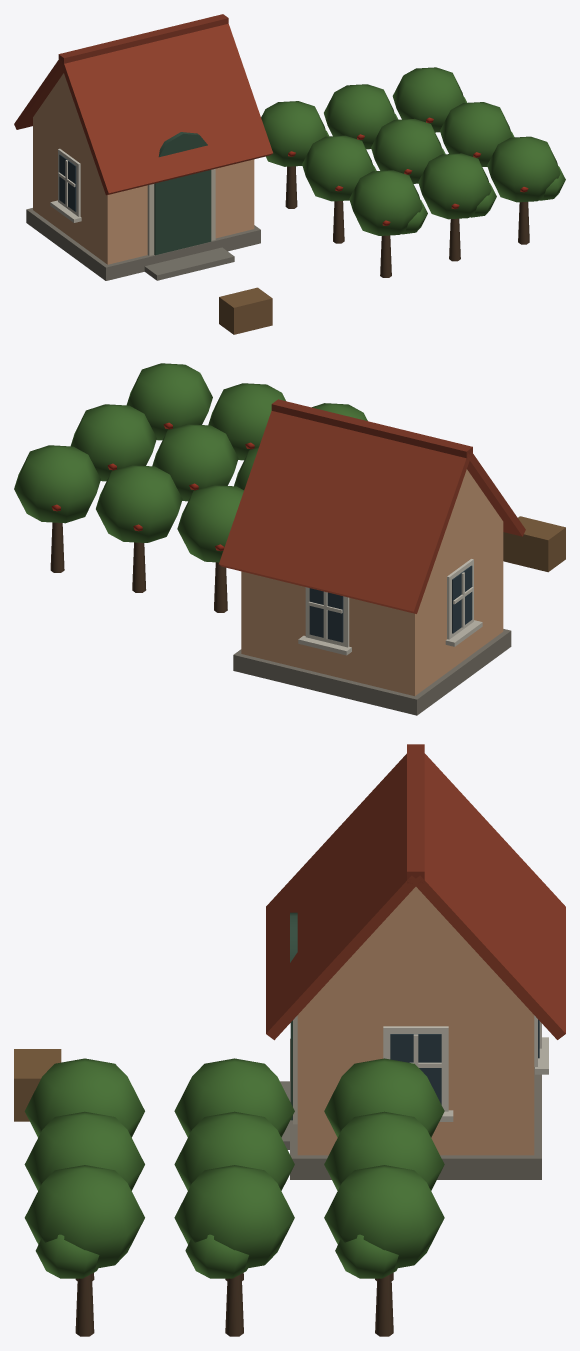
The model's file is procedural_orchard@4.glb.
The picture shows the model from 3 angles, top to bottom: view 1: azimuth 30°, elevation 25°; view 2: azimuth 150°, elevation 25°; view 3: azimuth 270°, elevation 25°; orthographic projection. The views are drawn at different scales.
Parts seen in each view (by area): view 1: part_0; view 2: part_0; view 3: part_0.
Boxes of the visible parts, <box> form: part_0: <box>14,14,565,334</box>; part_0: <box>14,363,565,715</box>; part_0: <box>14,744,565,1336</box>.
Size of the model in its own units: 9.07 by 4.37 by 7.
